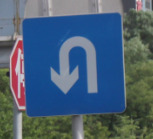u_turn: (22, 12, 126, 117)
